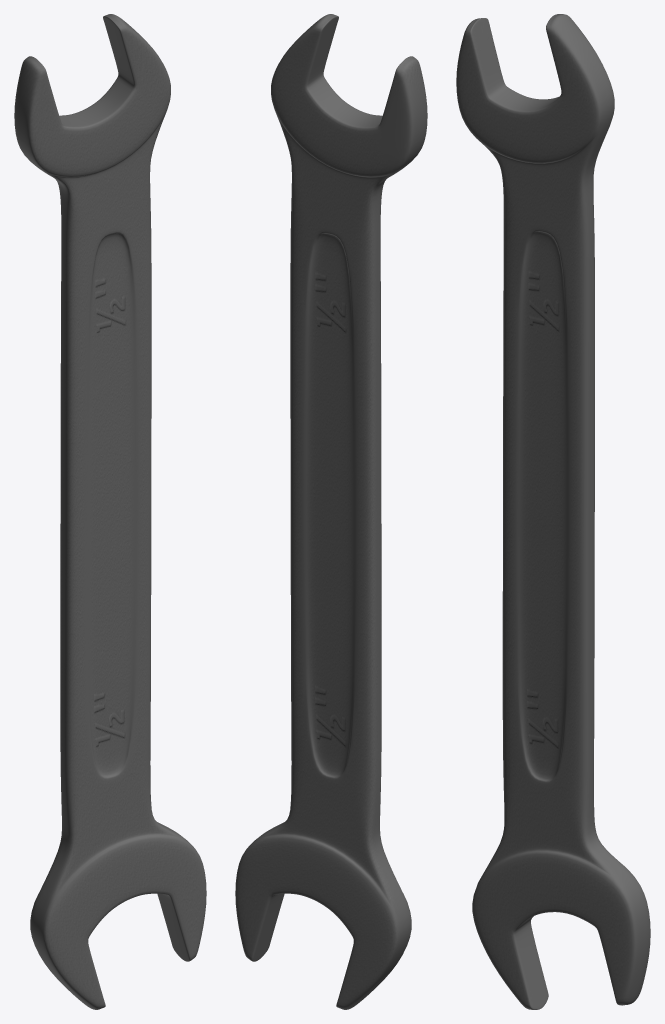
Rendered from 13075_Open_End_wrench_v2_l3.obj.
The picture shows the model from 3 angles, left to right: view 1: azimuth 30°, elevation 25°; view 2: azimuth 150°, elevation 25°; view 3: azimuth 330°, elevation 25°; orthographic projection.
Parts seen in each view (by area): view 1: Open_End_Wrench_body; view 2: Open_End_Wrench_body; view 3: Open_End_Wrench_body.
Part boxes in pixels (x1,y1,x2,y2): Open_End_Wrench_body: [14, 14, 206, 1009]; Open_End_Wrench_body: [235, 14, 427, 1009]; Open_End_Wrench_body: [456, 14, 650, 1009].
Bounding box in the file's own units: 1.02 × 5.38 × 0.1782.
1 material, 1 textured.
